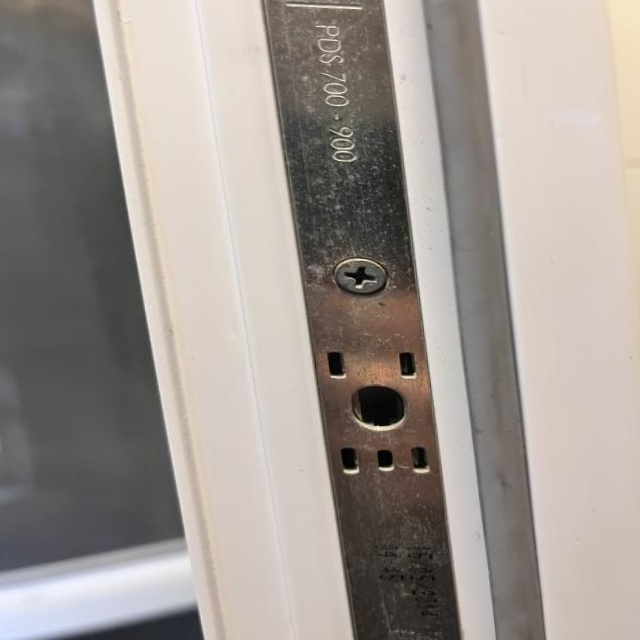phillips: (332, 255, 391, 297)
